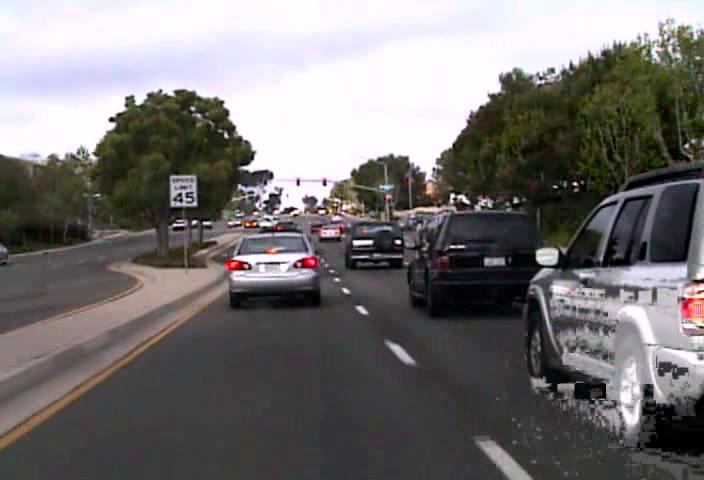speedLimit45: (169, 173, 198, 207)
